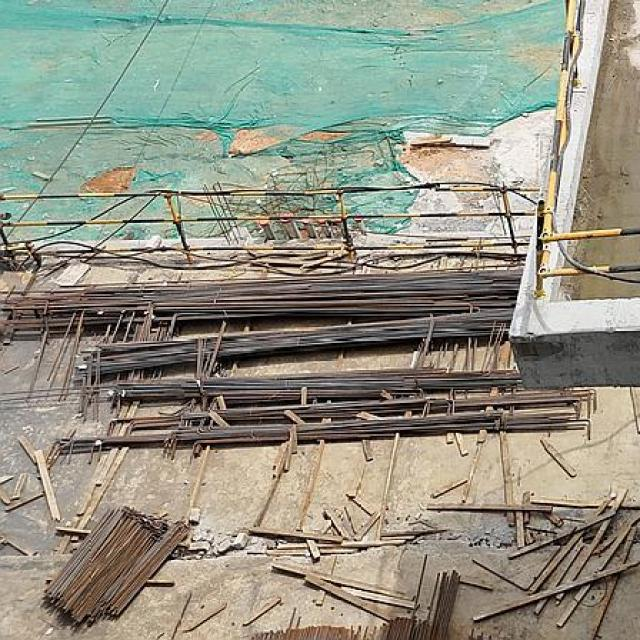edge_guardrail: (0, 186, 541, 266), (534, 0, 640, 293)
